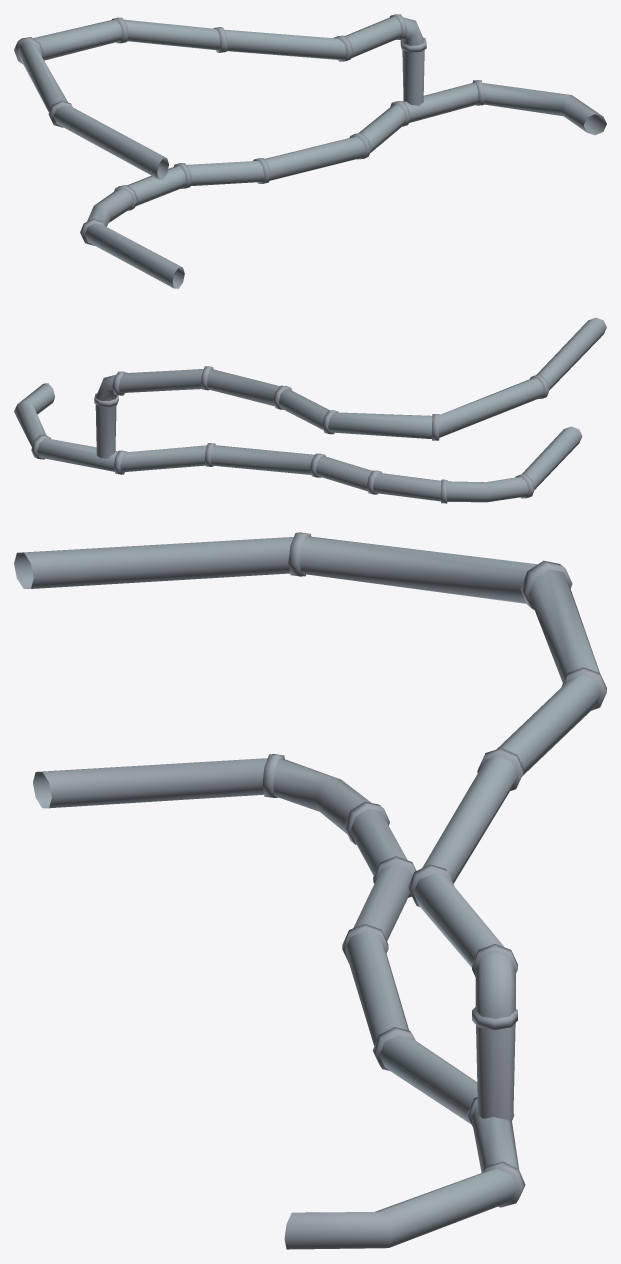
Rendered from Demo_guanzi.FBX.
3 renders of one model, top to bottom at view 1: azimuth 30°, elevation 25°; view 2: azimuth 150°, elevation 25°; view 3: azimuth 270°, elevation 25°, orthographic. The views are drawn at different scales.
Parts seen in each view (by area): view 1: Demo_guanzi; view 2: Demo_guanzi; view 3: Demo_guanzi.
Part boxes in pixels (x1=…): Demo_guanzi: x1=14, y1=14, x2=606, y2=288; Demo_guanzi: x1=14, y1=317, x2=606, y2=503; Demo_guanzi: x1=14, y1=532, x2=606, y2=1249.
Size of the model in its own units: 79.45 by 22.54 by 43.36.
